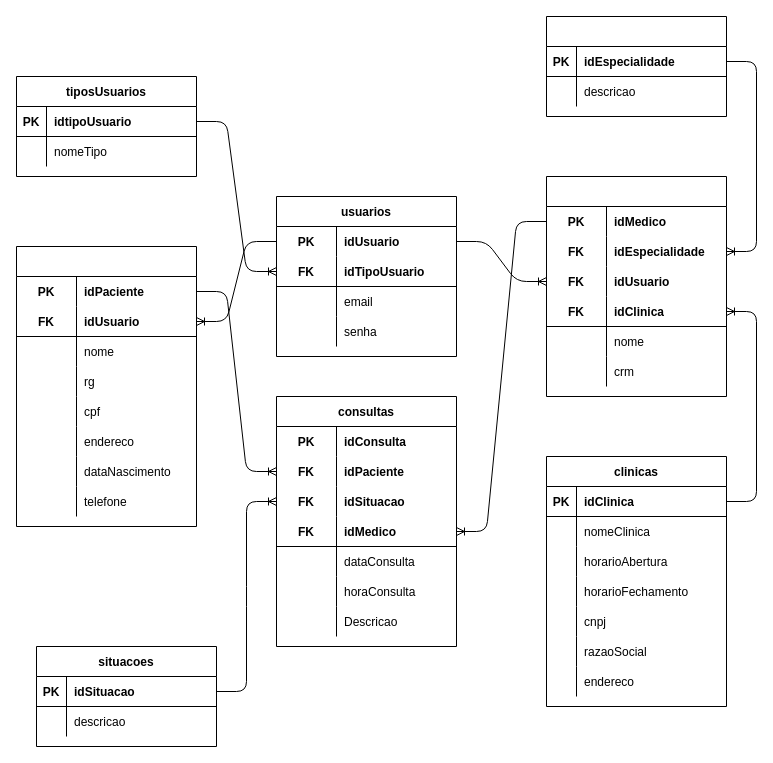
Image size: 773x763. Some labels were removed from this diagram. The box of each missing label's shape, as (x1, y1, x2, y2) in pixels:
especialidades: (546, 16, 726, 116)
medicos: (546, 176, 726, 396)
pacientes: (16, 246, 196, 526)
